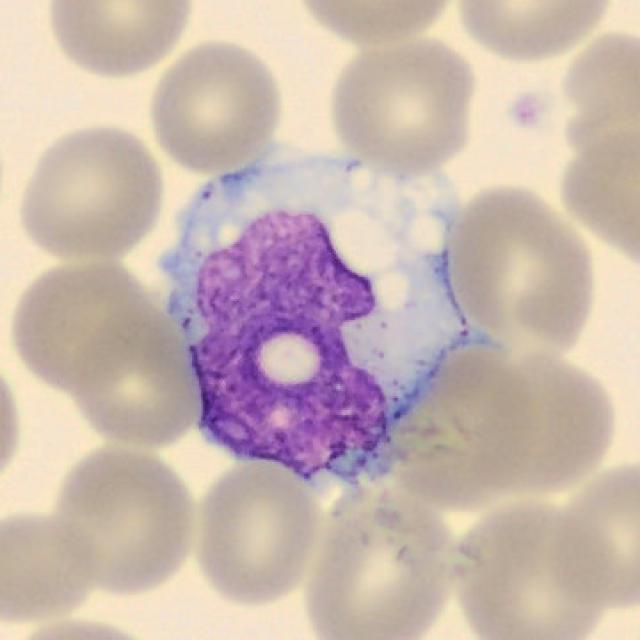Linfocito atipico: (160, 144, 491, 498)
